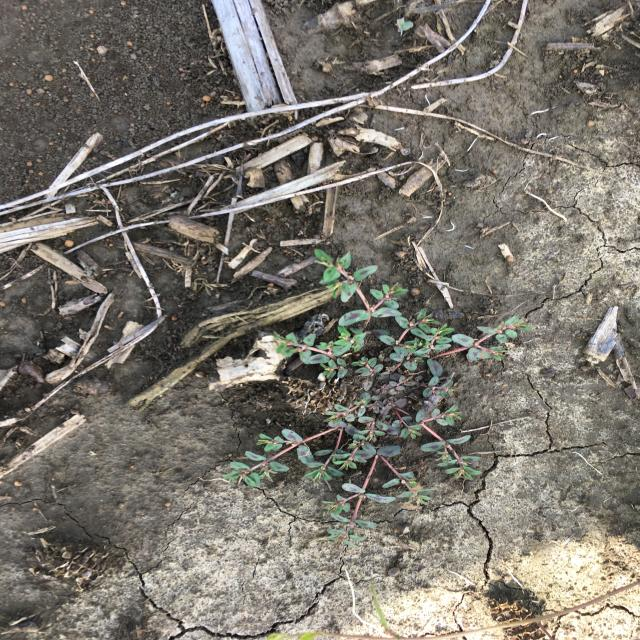SpottedSpurge: (216, 246, 536, 546)
